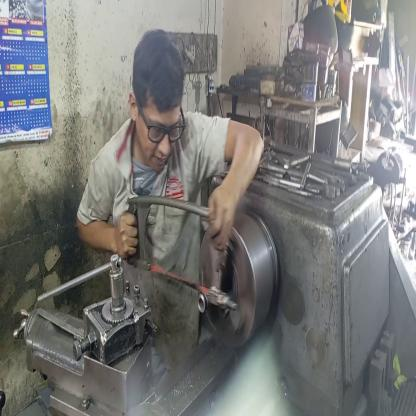lentes: (134, 94, 186, 152)
